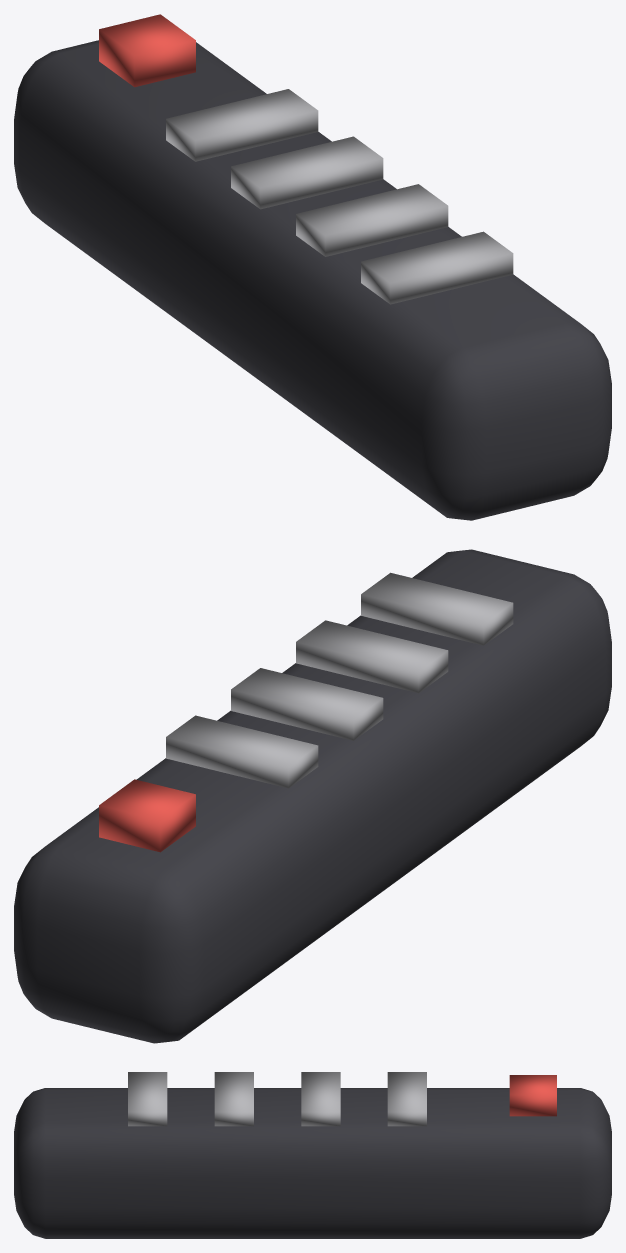
The model's file is remote.glb.
The picture shows the model from 3 angles, top to bottom: view 1: azimuth 30°, elevation 25°; view 2: azimuth 150°, elevation 25°; view 3: azimuth 270°, elevation 25°; orthographic projection. The views are drawn at different scales.
Visible parts, largest first — view 1: Cube.006, Cube.011, Cube.008, Cube.009, Cube.010, Cube.007; view 2: Cube.006, Cube.008, Cube.009, Cube.010, Cube.011, Cube.007; view 3: Cube.006, Cube.009, Cube.008, Cube.010, Cube.011, Cube.007.
Part boxes in pixels (x1,y1,x2,y2): Cube.006: (14, 40, 611, 520); Cube.011: (361, 231, 513, 304); Cube.008: (166, 89, 318, 161); Cube.009: (231, 136, 383, 209); Cube.010: (296, 184, 448, 256); Cube.007: (99, 14, 195, 87); Cube.006: (14, 549, 611, 1043); Cube.008: (166, 715, 318, 788); Cube.009: (231, 668, 383, 740); Cube.010: (296, 620, 448, 693); Cube.011: (361, 572, 513, 645); Cube.007: (99, 779, 195, 852); Cube.006: (14, 1088, 611, 1238); Cube.009: (301, 1072, 340, 1126); Cube.008: (387, 1072, 426, 1126); Cube.010: (214, 1072, 253, 1126); Cube.011: (128, 1072, 167, 1126); Cube.007: (509, 1075, 556, 1116).
Size of the model in its own units: 0.9 by 0.95 by 3.8.
